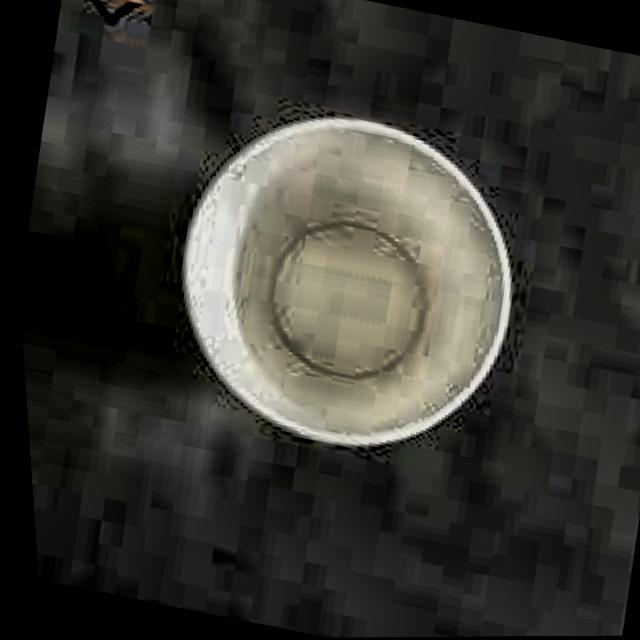Cup: (125, 80, 559, 496)
